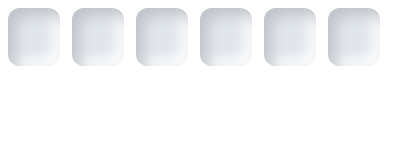
Test: OTPInput › distributes pasted digits across boxes
Click the field named "Digit 1 of 6".
click(34, 37)  # box [8,8,60,66]
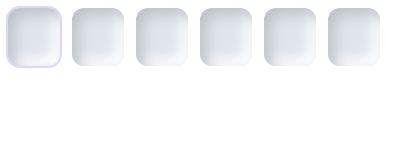
Type keys "123456"
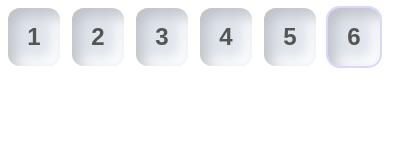
Result: the field named "Digit 1 of 6" holds "1" at [8,8,60,66]
Result: the field named "Digit 2 of 6" holds "2" at [72,8,124,66]
Result: the field named "Digit 3 of 6" holds "3" at [136,8,188,66]
